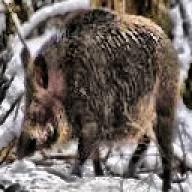boar: (14, 4, 180, 192)
